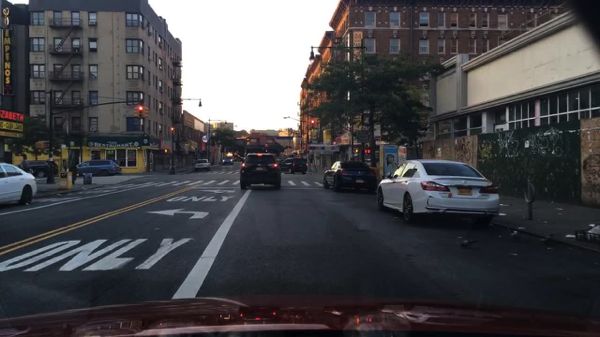car: (376, 157, 501, 226), (322, 160, 380, 194), (0, 160, 38, 210), (238, 151, 283, 189), (60, 159, 121, 179), (15, 158, 58, 180), (279, 157, 309, 175), (192, 158, 211, 171), (230, 154, 245, 162), (221, 157, 235, 165), (276, 157, 284, 163)
person: (67, 163, 78, 186)
traffic light: (137, 103, 145, 117), (36, 140, 46, 150), (133, 106, 139, 118), (308, 118, 315, 127), (145, 106, 150, 118), (362, 148, 371, 154), (170, 126, 176, 134), (164, 148, 171, 154), (353, 148, 360, 154)
traffic sign: (357, 130, 369, 144)
